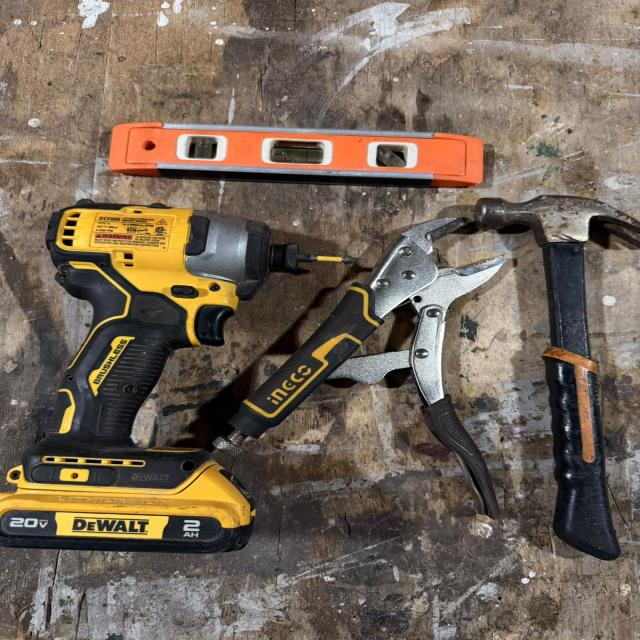Martillo: (460, 165, 640, 573)
Nivel: (81, 107, 506, 196)
PinzasPresion: (186, 199, 541, 536)
Rotomartillo: (0, 187, 379, 561)
